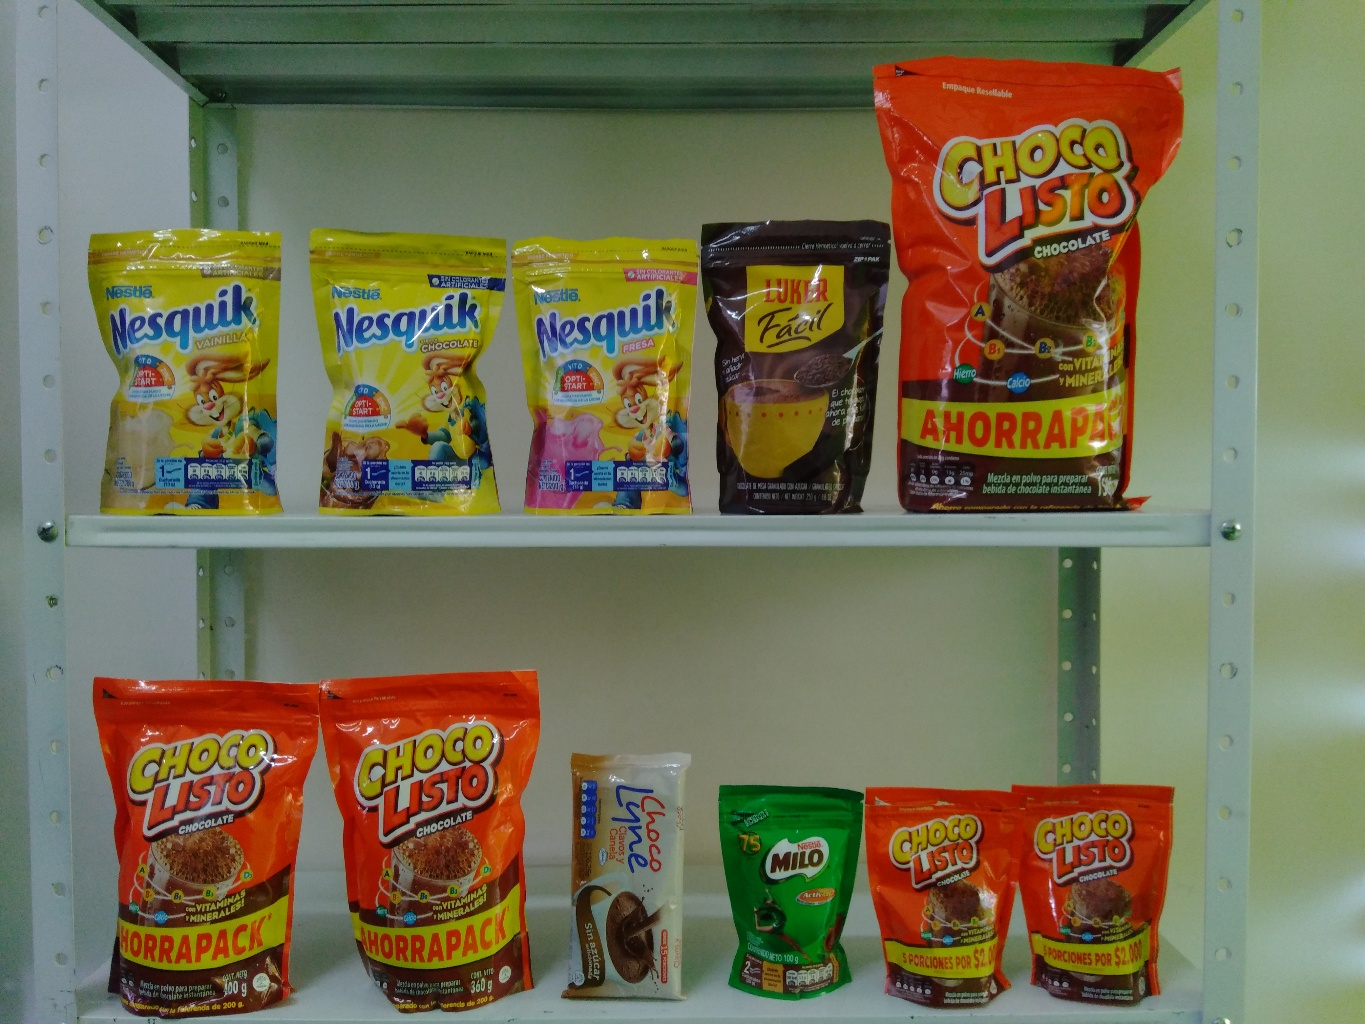COL0170103DYP1,500: (875, 56, 1184, 510)
COL0170103DYP10000: (877, 778, 1030, 1007)
COL0170103DYP36000: (315, 672, 553, 1014)
COL0170103DYP40000: (100, 674, 315, 1018)
COL0170203DYP10000: (721, 778, 875, 1000)
COL0170303DYP20000: (303, 208, 512, 518)
COL0170305DYP20000: (521, 234, 700, 508)
COL0170306DYP20000: (73, 218, 300, 528)
